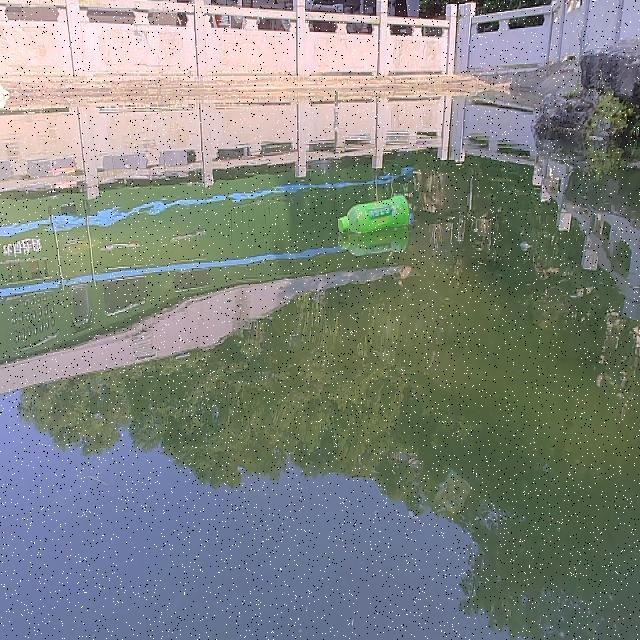bottle: (333, 194, 414, 238)
